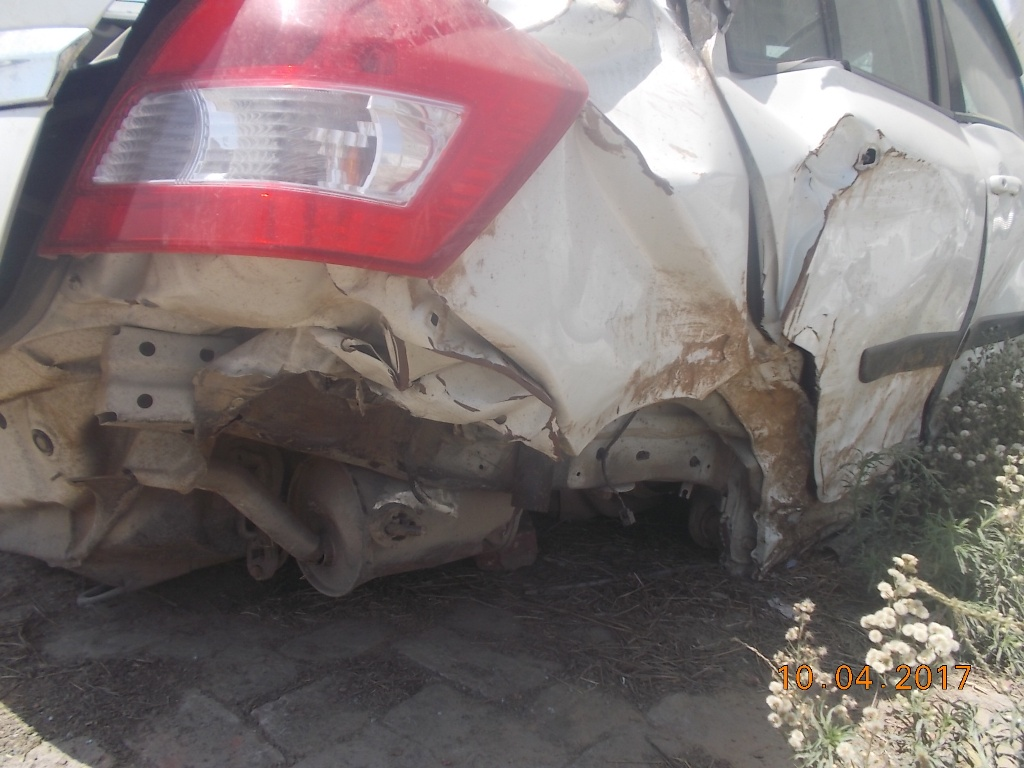Large_tear_or_damage: (6, 18, 909, 597)
